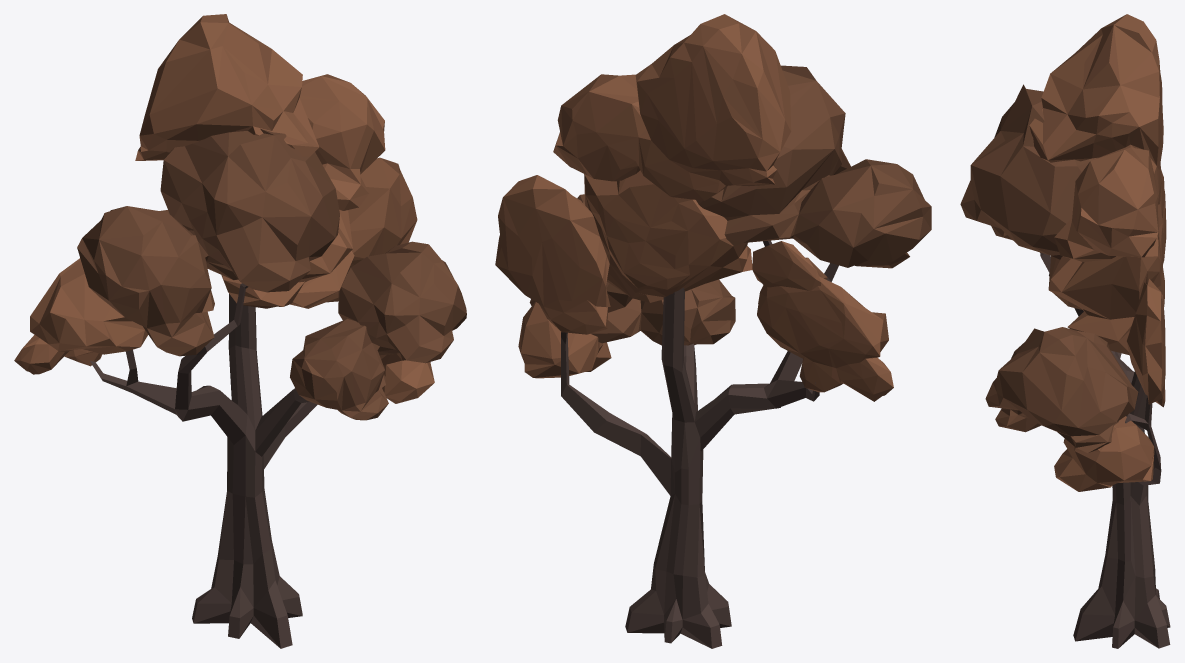
File: SM_Env_Tree_Facade_02.fbx
3 views of the same model, side by side, from view 1: azimuth 30°, elevation 25°; view 2: azimuth 150°, elevation 25°; view 3: azimuth 270°, elevation 25° (orthographic). The views are drawn at different scales.
Parts seen in each view (by area): view 1: SM_Env_Tree_Facade_02; view 2: SM_Env_Tree_Facade_02; view 3: SM_Env_Tree_Facade_02.
Part boxes in pixels (x1,y1,x2,y2): SM_Env_Tree_Facade_02: (14, 14, 466, 648); SM_Env_Tree_Facade_02: (495, 14, 931, 648); SM_Env_Tree_Facade_02: (960, 14, 1170, 648).
Size of the model in its own units: 919 by 1365 by 436.
1 material, 1 textured.
